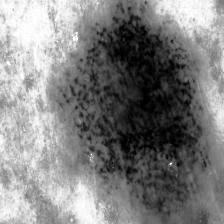Benign Marking or Mole: (55, 0, 212, 216)
